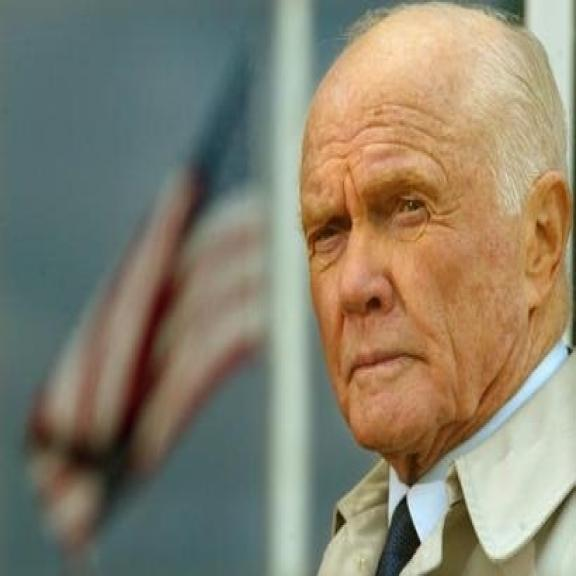face: (293, 6, 574, 462)
